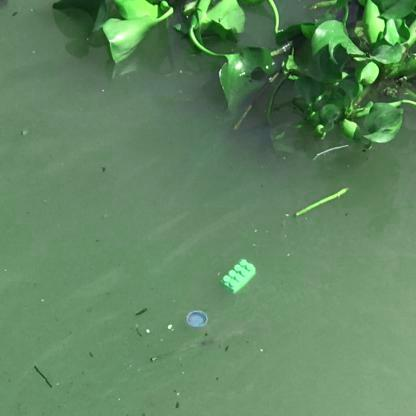Trash: (216, 255, 258, 294), (186, 307, 212, 330)
